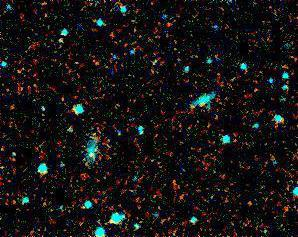star: (75, 122, 105, 152)
